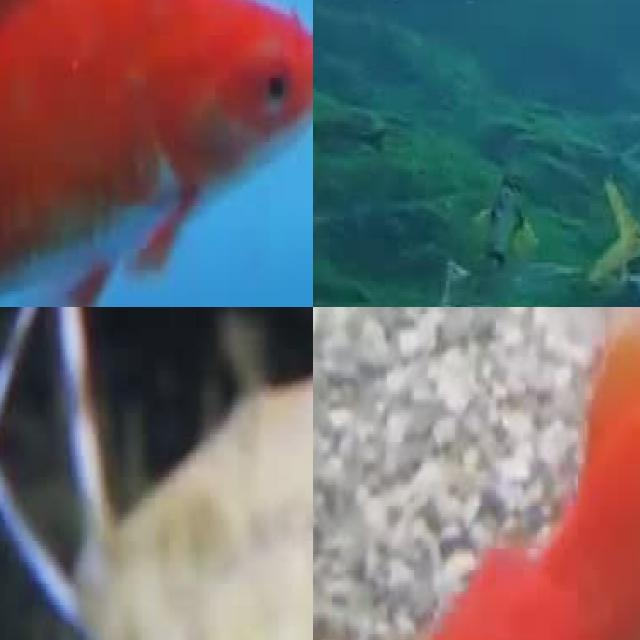fish: (10, 307, 313, 640), (0, 0, 313, 307)
